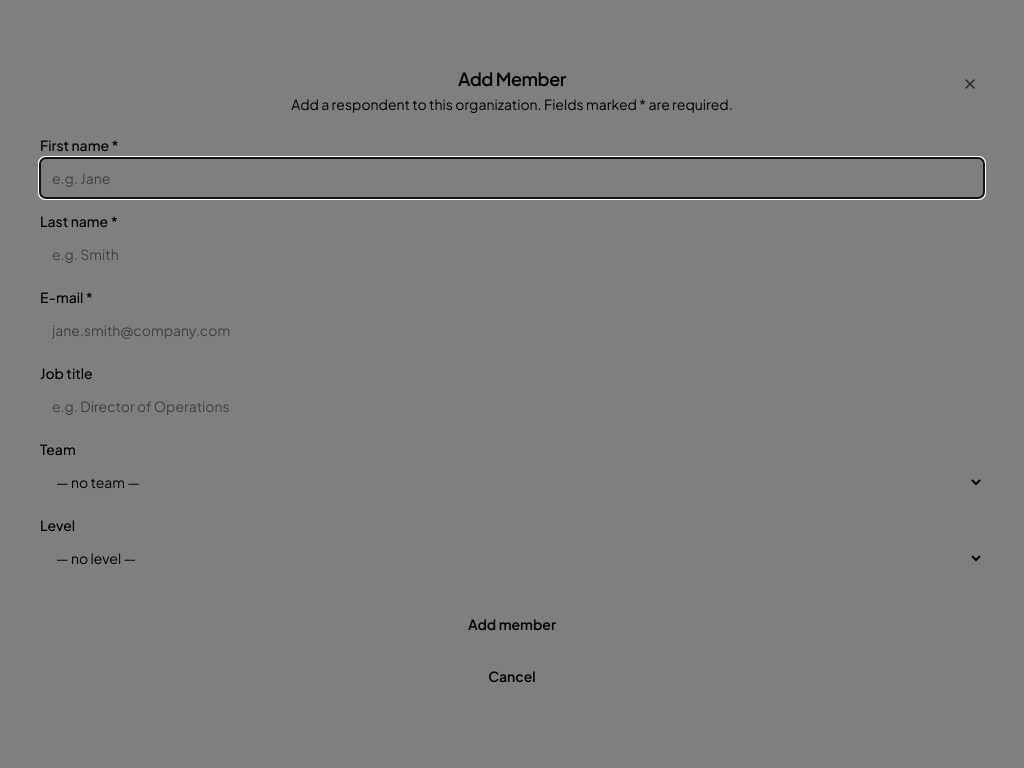
Test: AddMemberModal › responsive in-flight state locks only submit and leaves inputs and cancel available
Type "Jane" into the field labelled "First name *" at (512, 178), box [40,158,984,198]
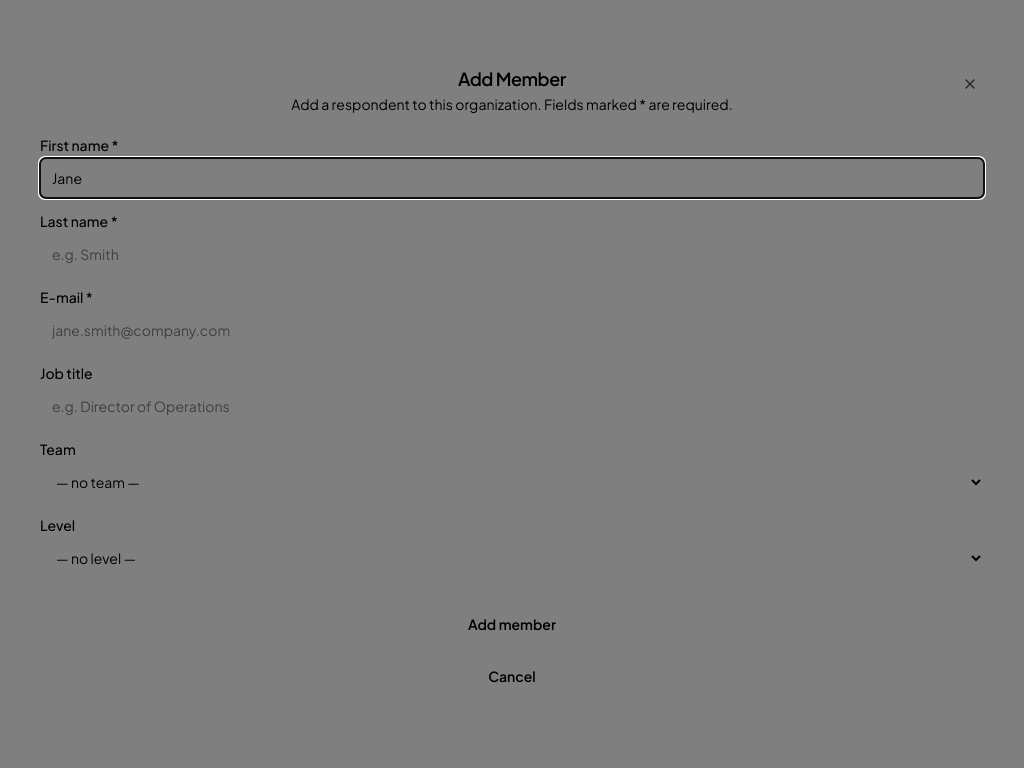
Type "Smith" into the field labelled "Last name *" at (512, 254), box [40,234,984,274]
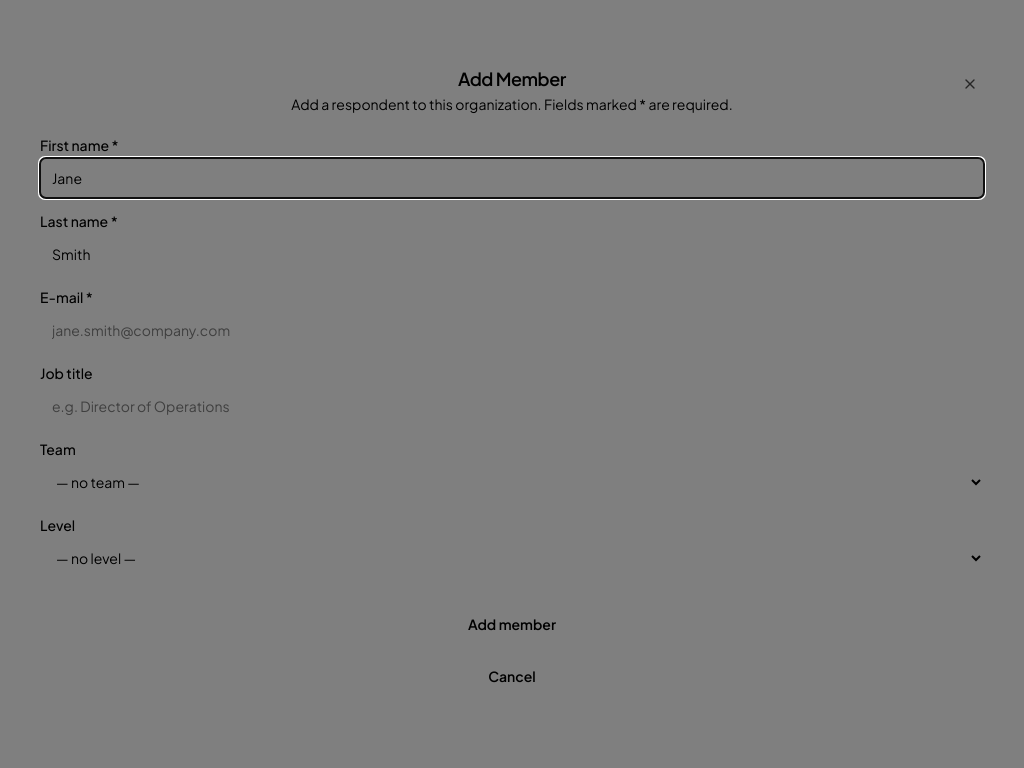
Type "jane@example.com" into the field labelled "E-mail *" at (512, 330), box [40,310,984,350]
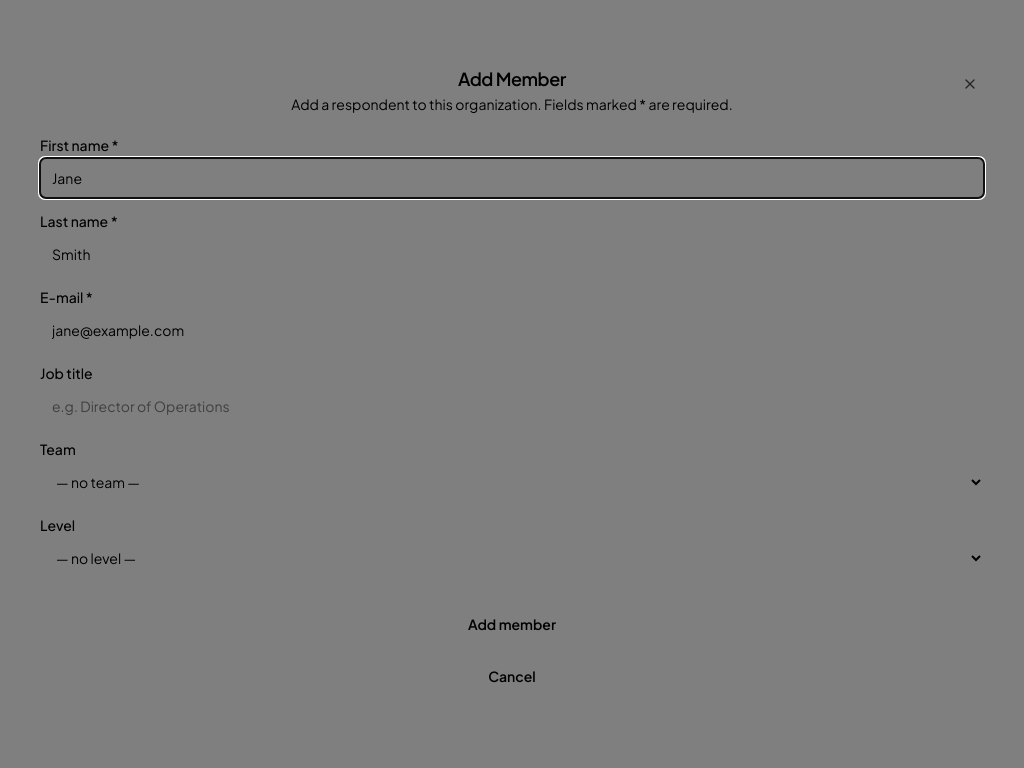
Click the button "Add member" at (512, 624), box [40,602,984,646]
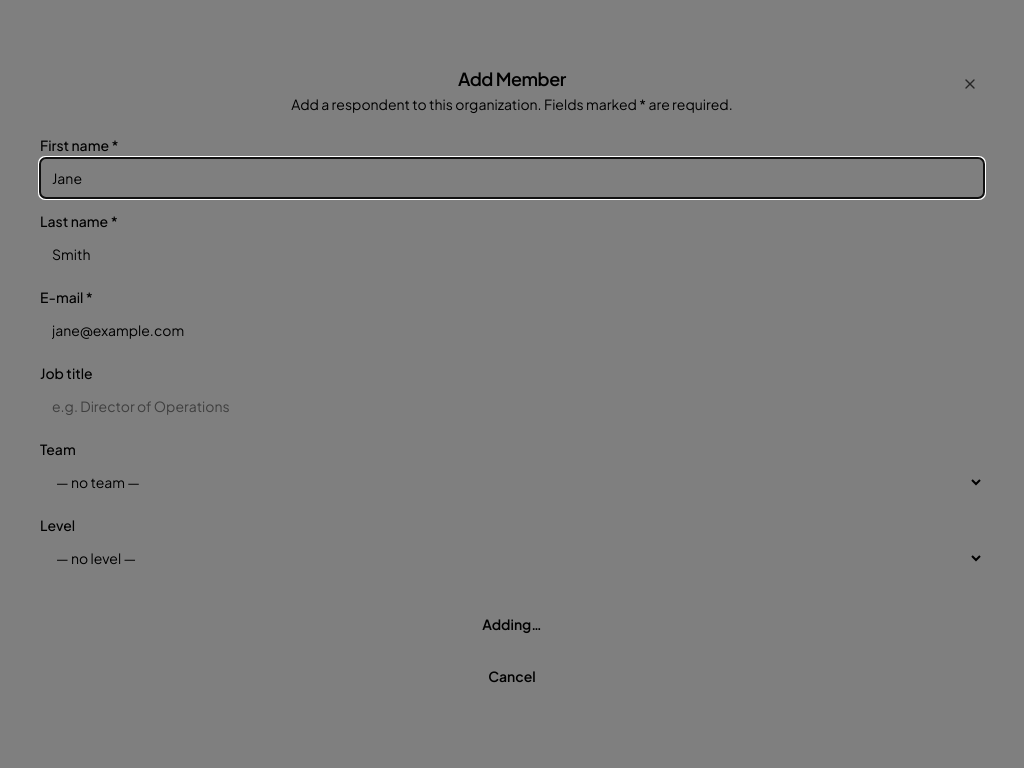
Expected: the field labelled "First name *" is enabled, [40,158,984,198]
Expected: the button "Adding…" is disabled, [40,602,984,646]
